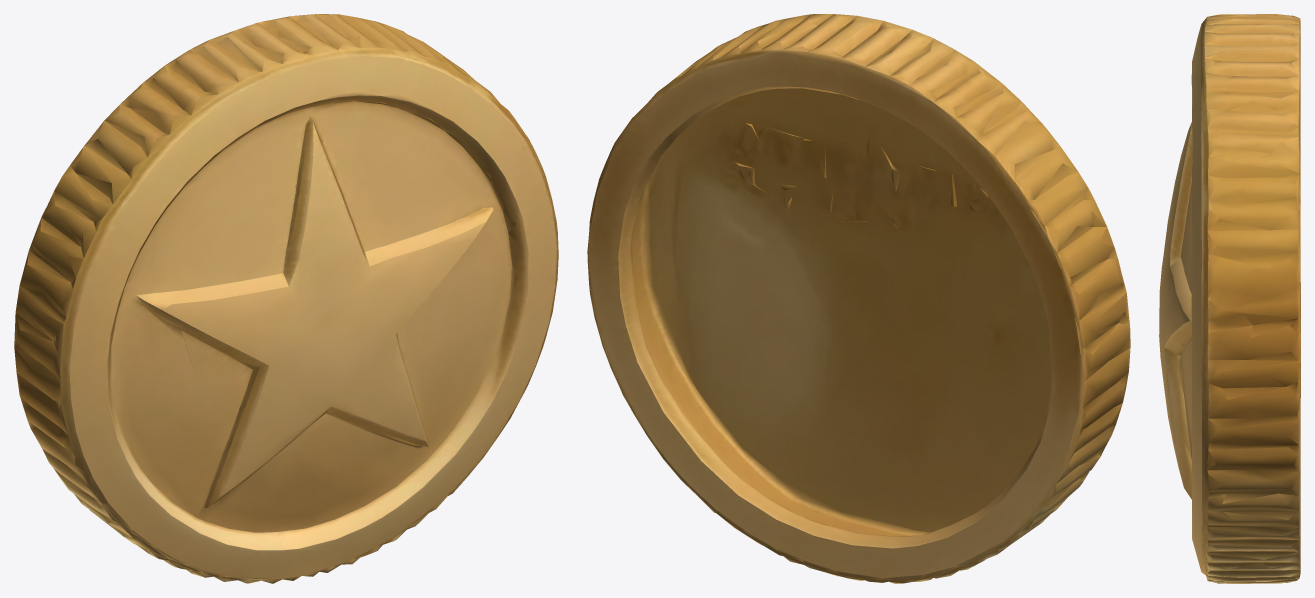
The model's file is m2GoldCoin.glb.
3 views of the same model, side by side, from view 1: azimuth 30°, elevation 25°; view 2: azimuth 150°, elevation 25°; view 3: azimuth 270°, elevation 25° (orthographic). The views are drawn at different scales.
Visible parts, largest first — view 1: model; view 2: model; view 3: model.
Part boxes in pixels (x1,y1,x2,y2): model: [14, 14, 558, 583]; model: [587, 14, 1130, 583]; model: [1159, 14, 1300, 583].
Size of the model in its own units: 1.89 by 1.9 by 0.4733.
Materials: 1 (1 with a texture image).
